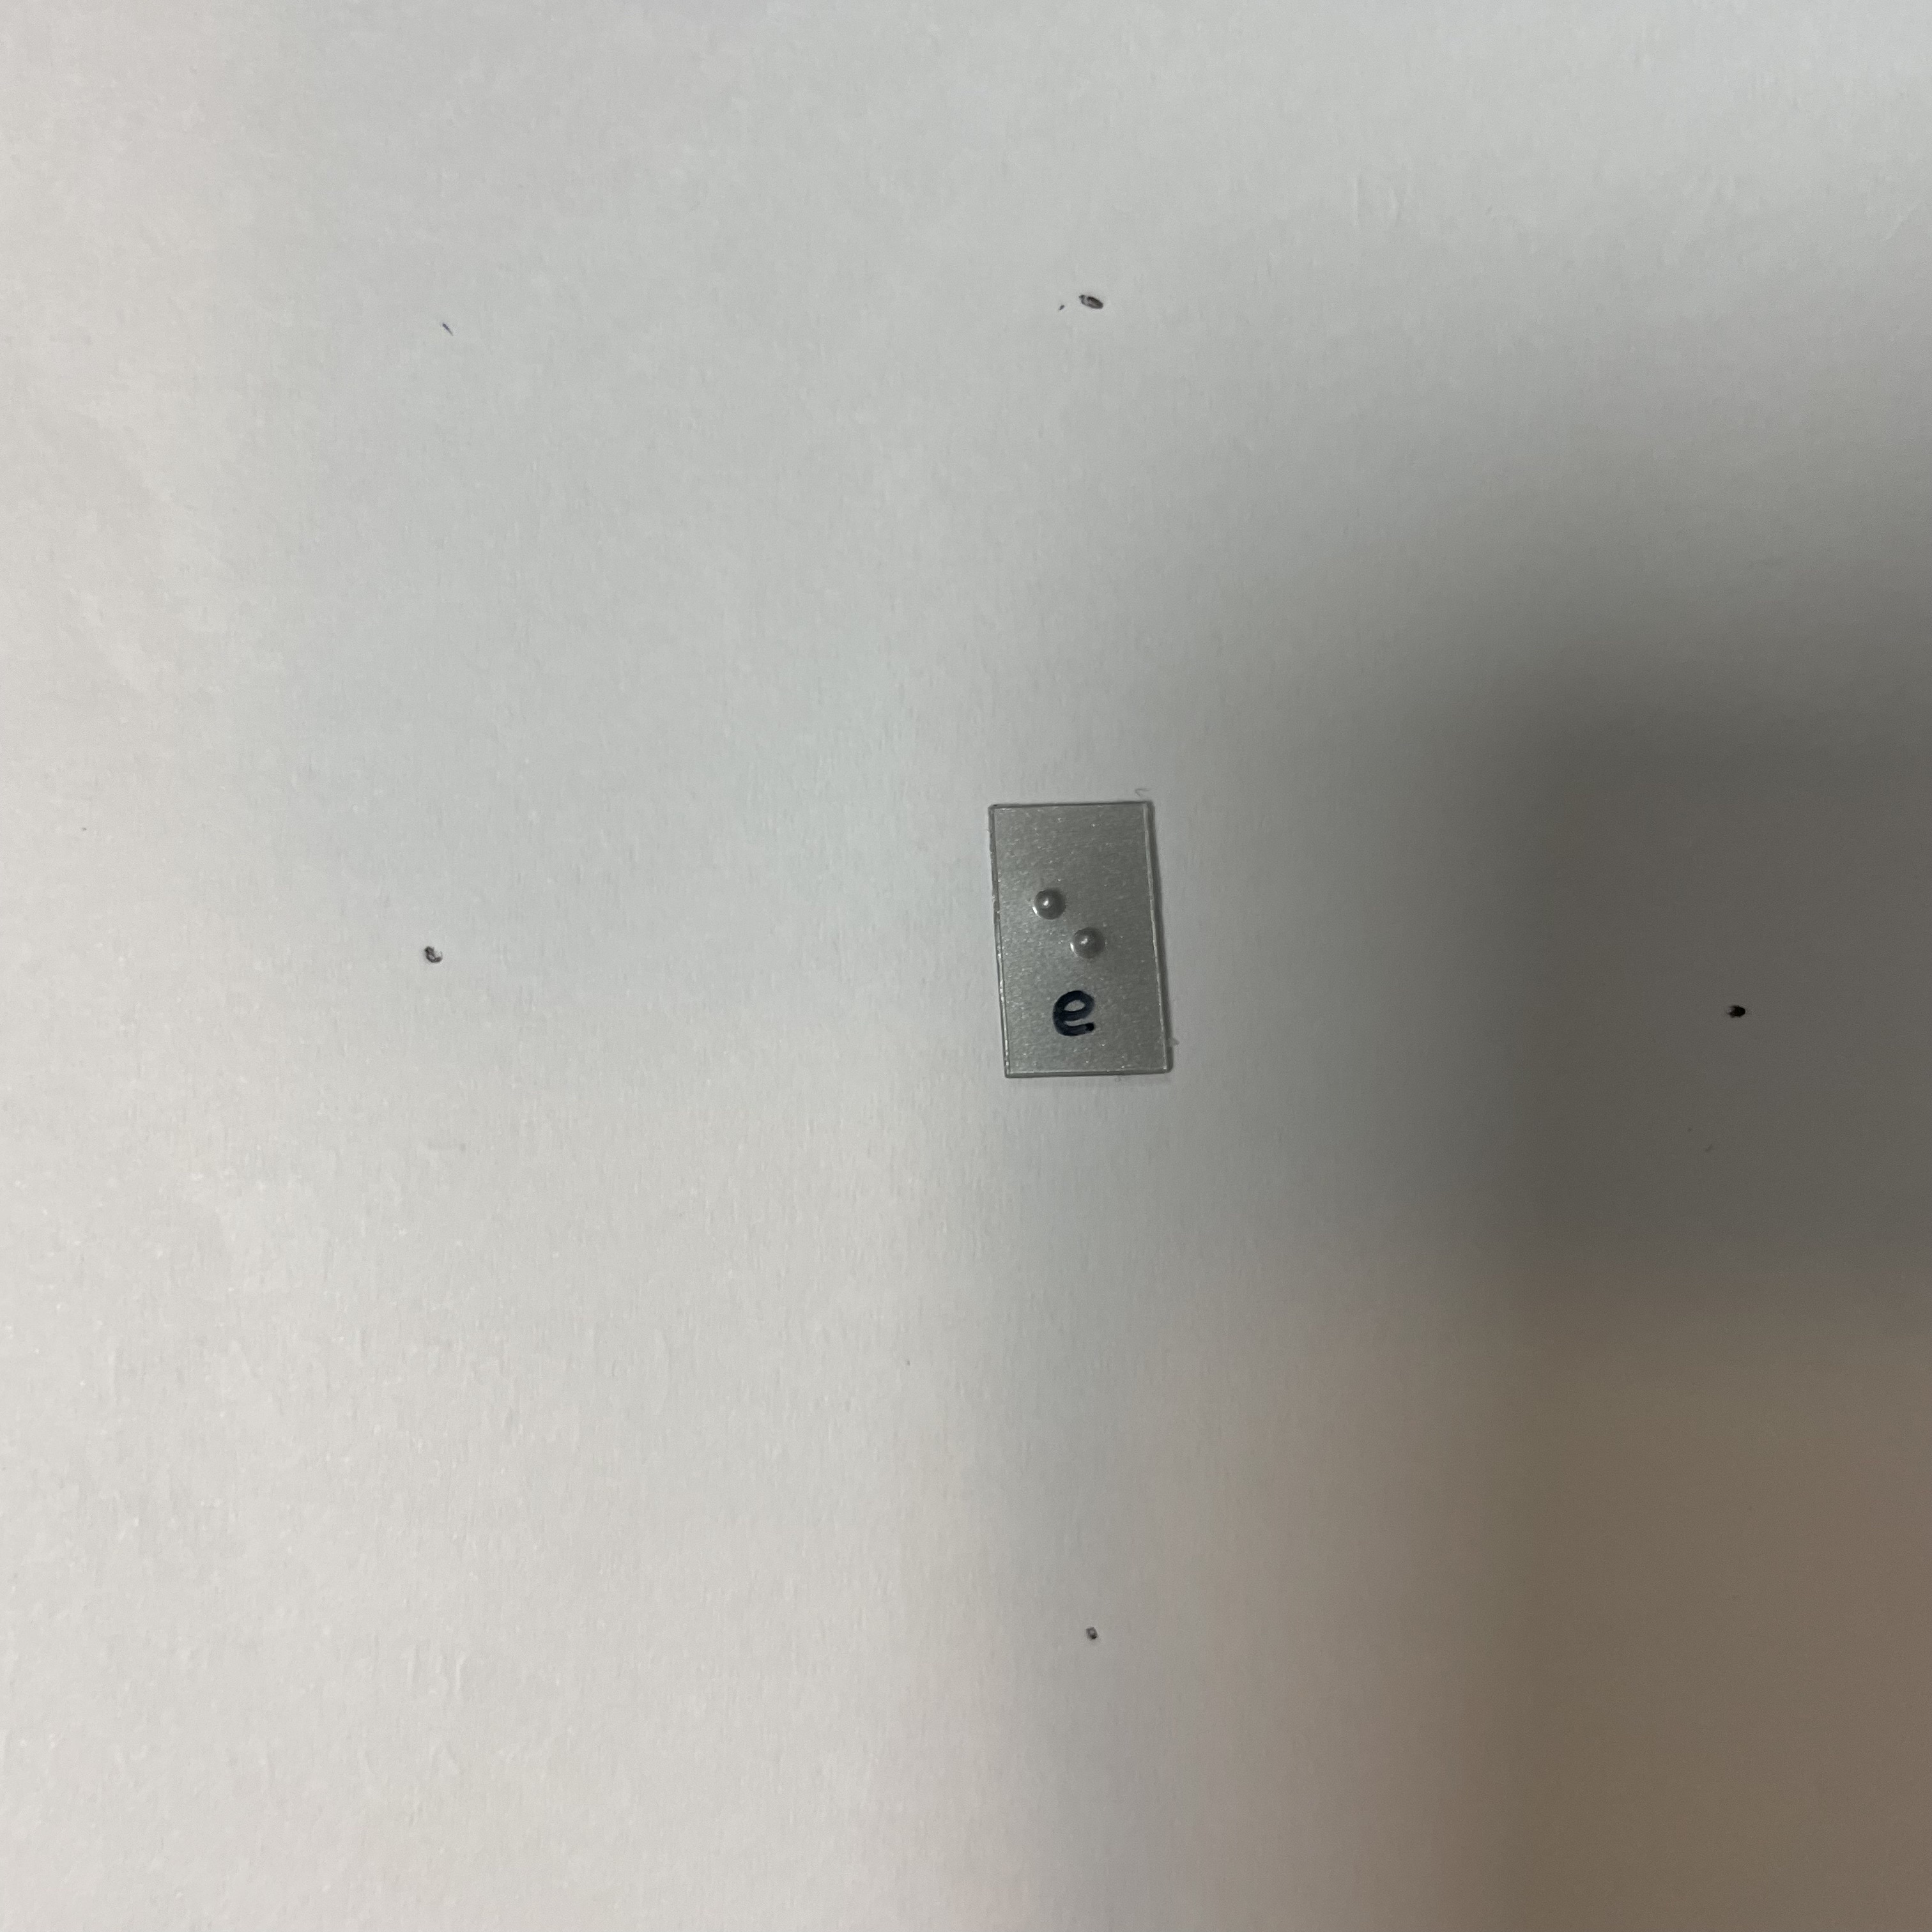e: (1022, 866, 1126, 1001)
